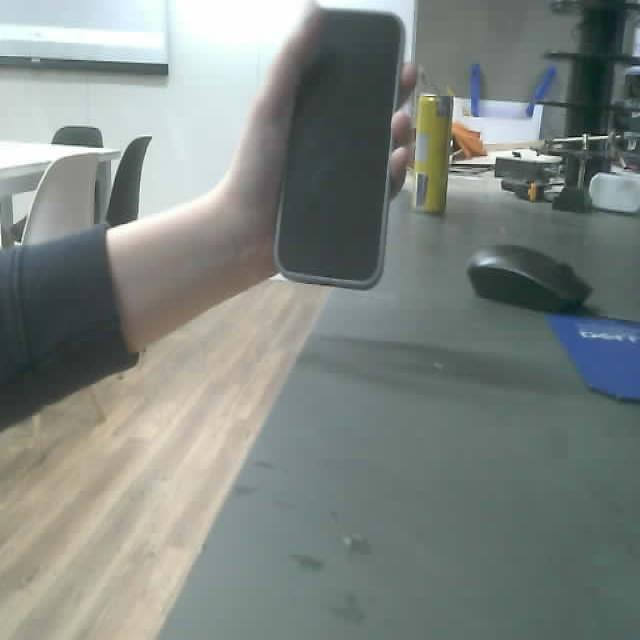phone: (275, 7, 407, 290)
